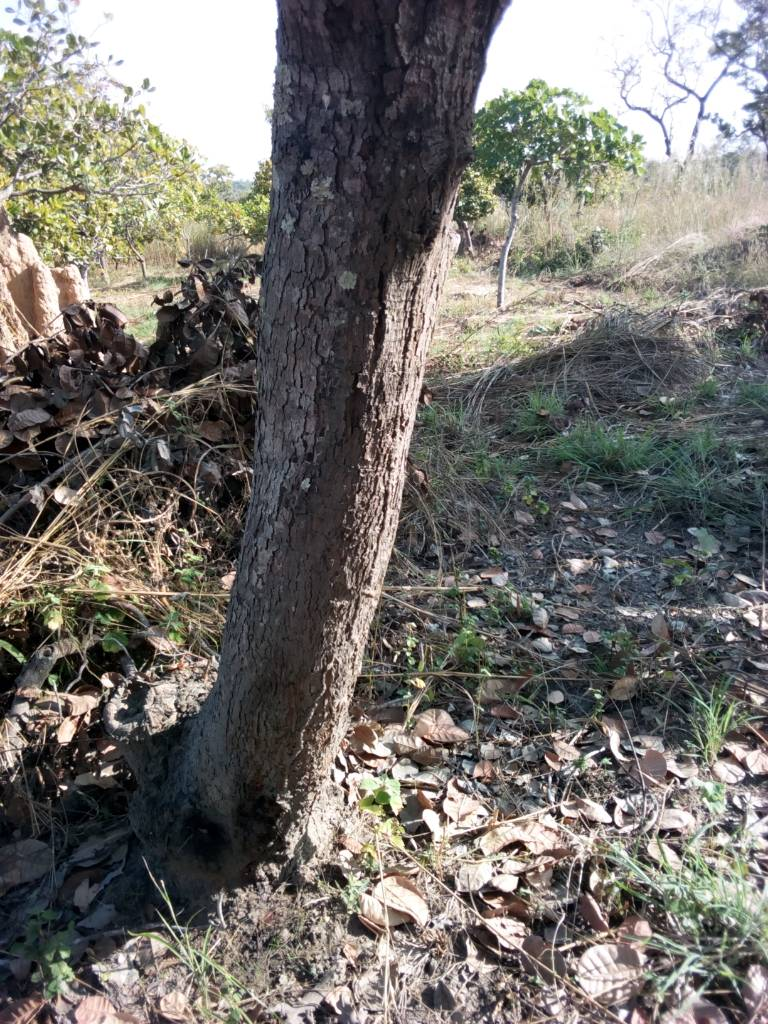Termites: (247, 177, 430, 792)
